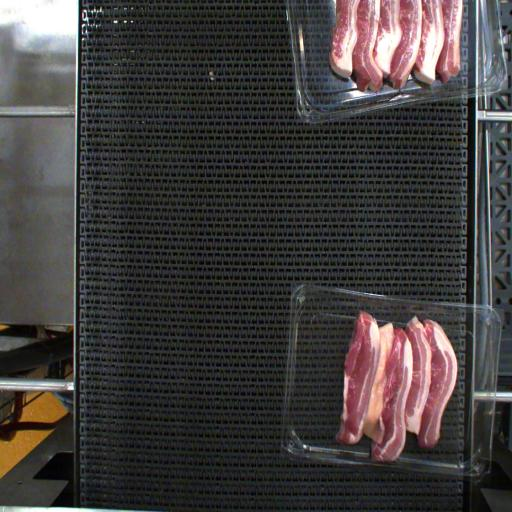packaging-error: (366, 452, 396, 468)
twisted-meat: (367, 313, 397, 447)
